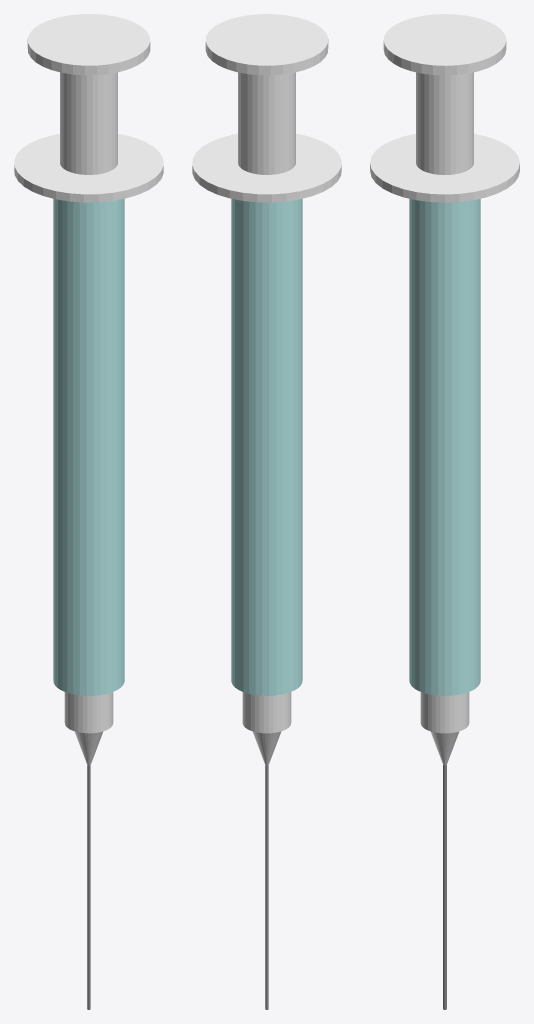
File: syringe.fbx
3 views of the same model, side by side, from view 1: azimuth 30°, elevation 25°; view 2: azimuth 150°, elevation 25°; view 3: azimuth 270°, elevation 25° (orthographic).
Parts seen in each view (by area): view 1: syringe; view 2: syringe; view 3: syringe.
Boxes of the visible parts, x1,y1,x2,y2 form: syringe: (14, 14, 163, 1009); syringe: (192, 14, 341, 1009); syringe: (370, 14, 519, 1009).
Size of the model in its own units: 144 by 1024 by 144.
